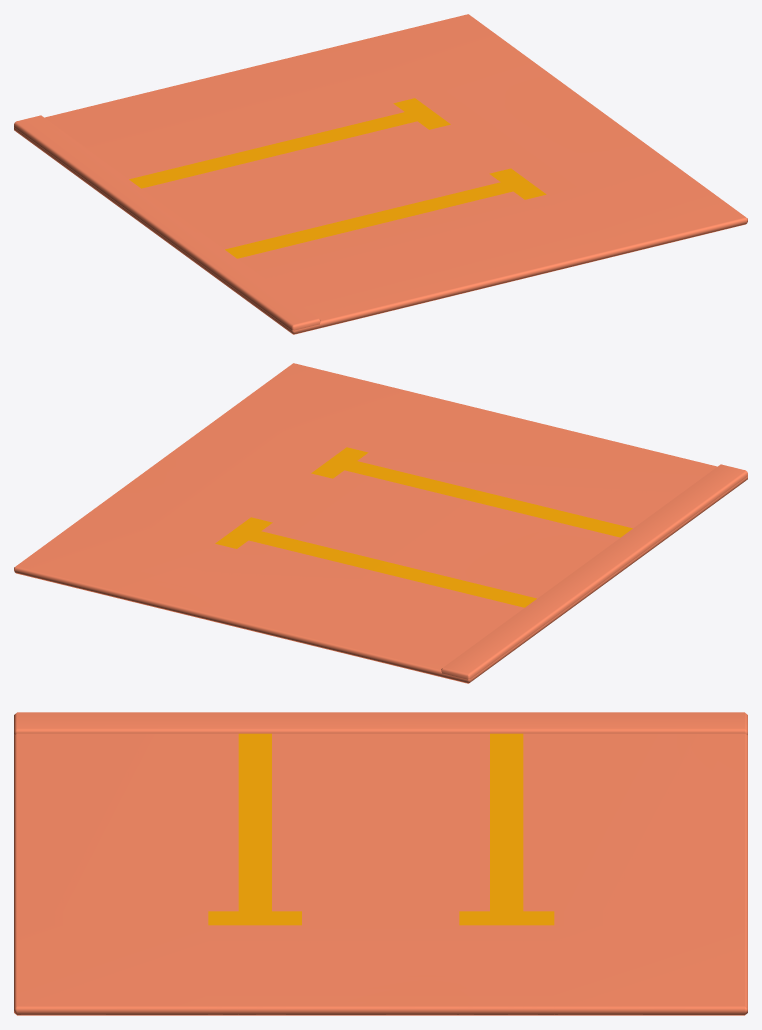
The model's file is City_8_Parking_1.glb.
3 renders of one model, top to bottom at view 1: azimuth 30°, elevation 25°; view 2: azimuth 150°, elevation 25°; view 3: azimuth 270°, elevation 25°, orthographic. The views are drawn at different scales.
Visible parts, largest first — view 1: City_8_Parking_1; view 2: City_8_Parking_1; view 3: City_8_Parking_1.
Boxes of the visible parts, x1=… form: City_8_Parking_1: x1=14, y1=14, x2=747, y2=334; City_8_Parking_1: x1=14, y1=363, x2=747, y2=683; City_8_Parking_1: x1=14, y1=712, x2=747, y2=1015.
Bounding box in the file's own units: 8.18 × 0.1783 × 8.68.
Materials: 1 (1 with a texture image).
